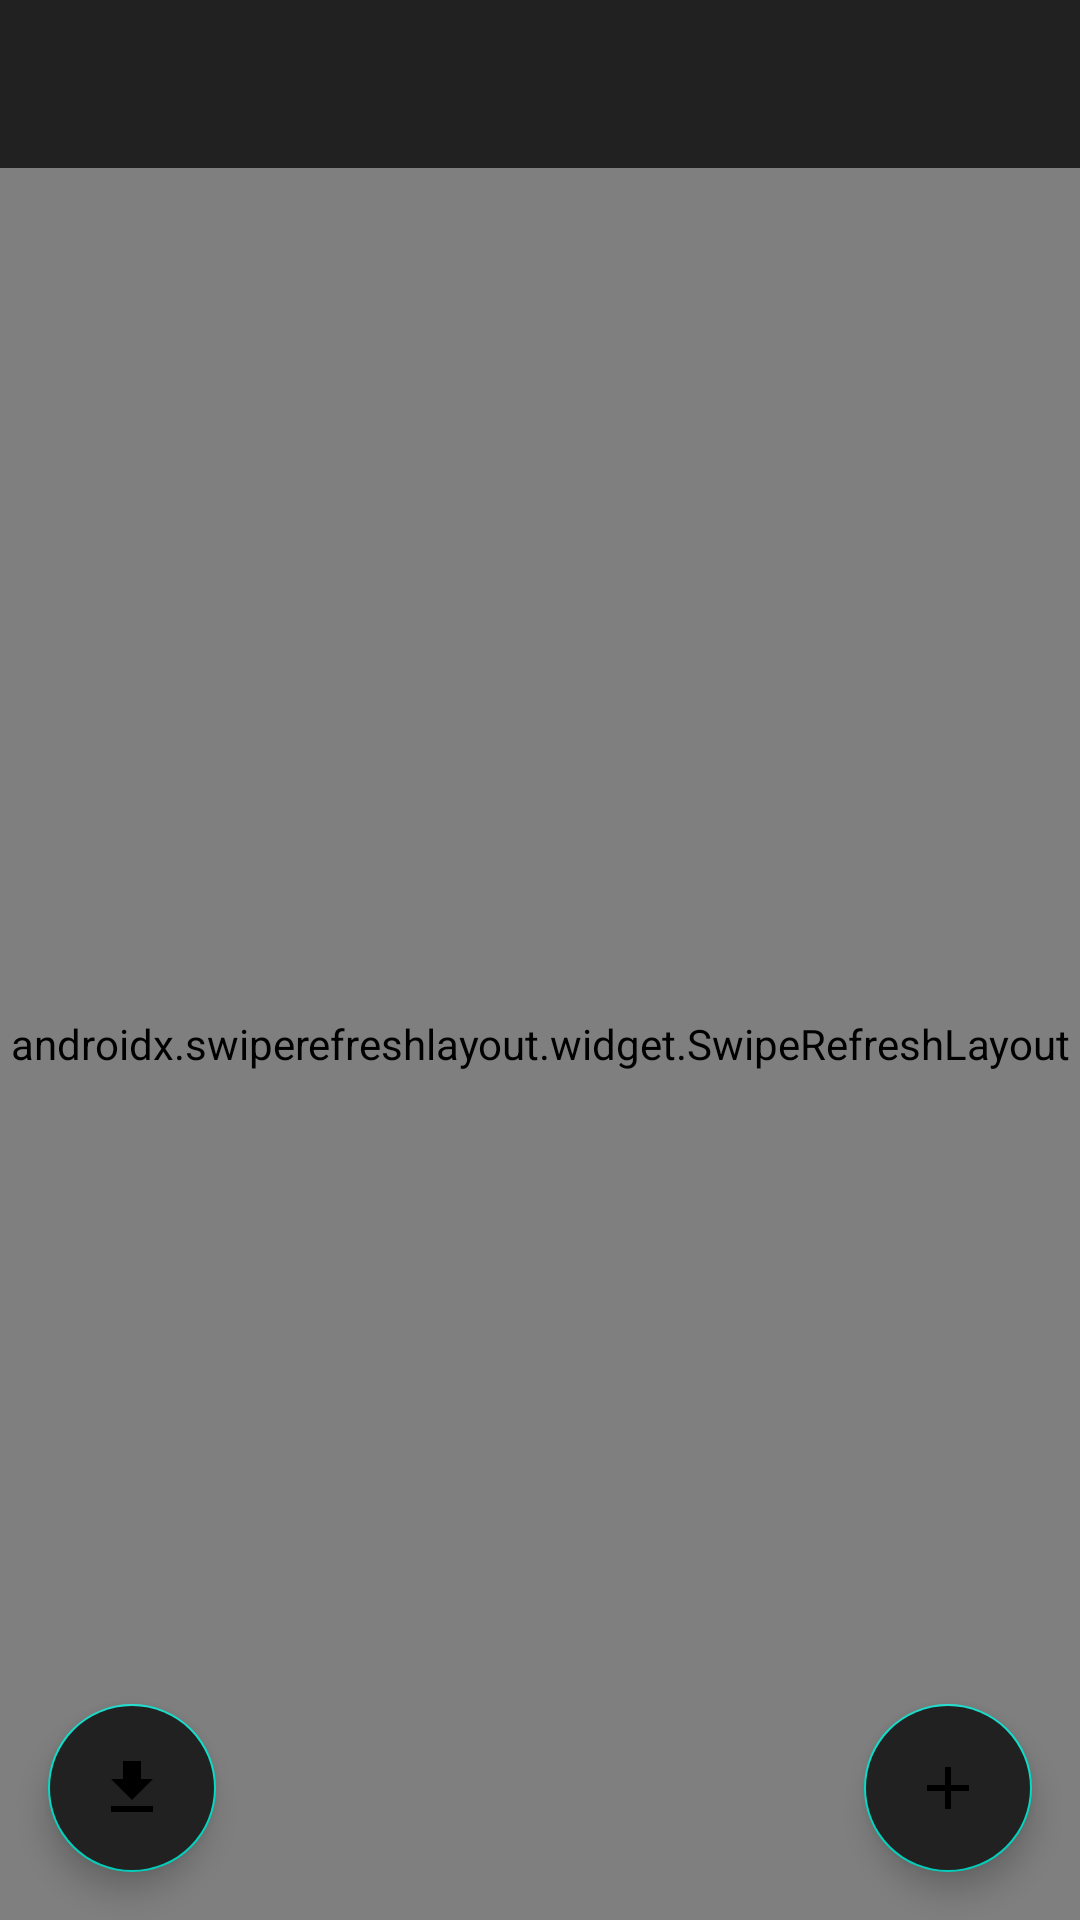

Named icons in this screenshot (1080 x 1920) and their centers, point (x, y):
add: point (948, 1788)
file download: point (132, 1788)
